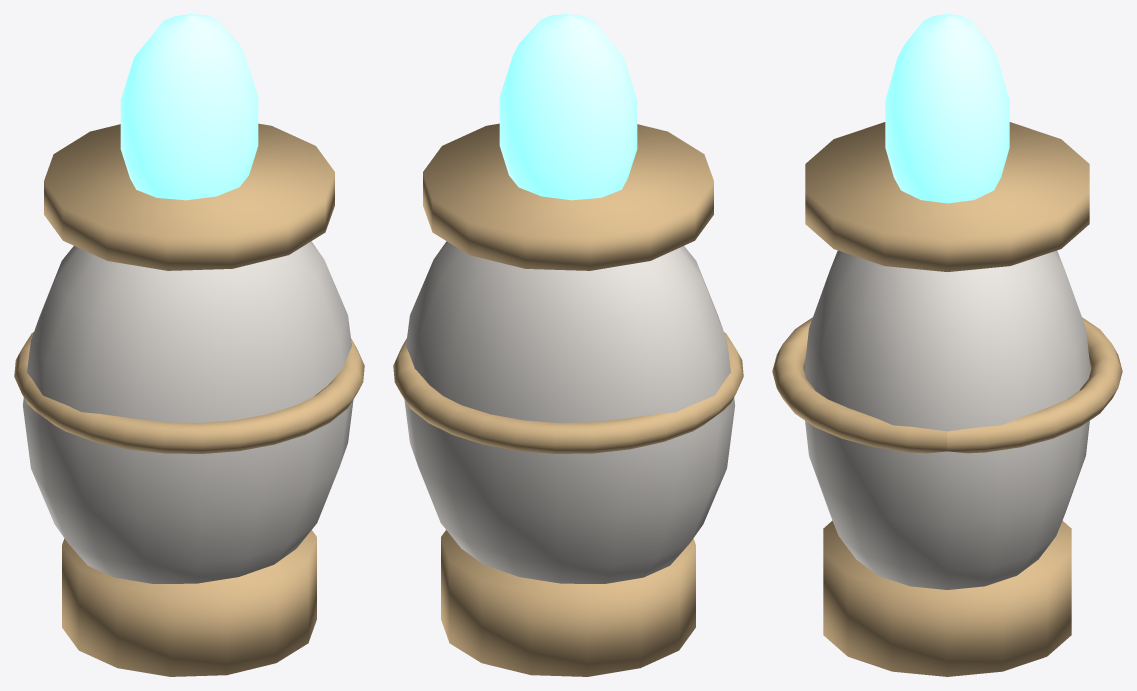
File: orn_memory_urn.glb
The picture shows the model from 3 angles, left to right: view 1: azimuth 30°, elevation 25°; view 2: azimuth 150°, elevation 25°; view 3: azimuth 270°, elevation 25°; orthographic projection.
Parts seen in each view (by area): view 1: ORN_memory_urn_vase, ORN_memory_urn_lip, ORN_memory_urn_foot, ORN_memory_urn_memory_flame, ORN_memory_urn_gold_band; view 2: ORN_memory_urn_vase, ORN_memory_urn_lip, ORN_memory_urn_foot, ORN_memory_urn_memory_flame, ORN_memory_urn_gold_band; view 3: ORN_memory_urn_vase, ORN_memory_urn_lip, ORN_memory_urn_foot, ORN_memory_urn_memory_flame, ORN_memory_urn_gold_band.
Part boxes in pixels (<box>): ORN_memory_urn_vase: <box>22,241,353,583</box>; ORN_memory_urn_lip: <box>44,123,334,270</box>; ORN_memory_urn_foot: <box>62,530,316,676</box>; ORN_memory_urn_memory_flame: <box>120,14,258,200</box>; ORN_memory_urn_gold_band: <box>14,332,364,453</box>; ORN_memory_urn_vase: <box>404,241,735,583</box>; ORN_memory_urn_lip: <box>423,123,713,270</box>; ORN_memory_urn_foot: <box>441,530,695,676</box>; ORN_memory_urn_memory_flame: <box>499,14,637,200</box>; ORN_memory_urn_gold_band: <box>393,332,743,453</box>; ORN_memory_urn_vase: <box>804,250,1090,589</box>; ORN_memory_urn_lip: <box>805,122,1089,271</box>; ORN_memory_urn_foot: <box>823,520,1071,676</box>; ORN_memory_urn_memory_flame: <box>885,14,1009,203</box>; ORN_memory_urn_gold_band: <box>772,317,1122,453</box>.
Bounding box in the file's own units: 0.77 × 1.47 × 0.77.
